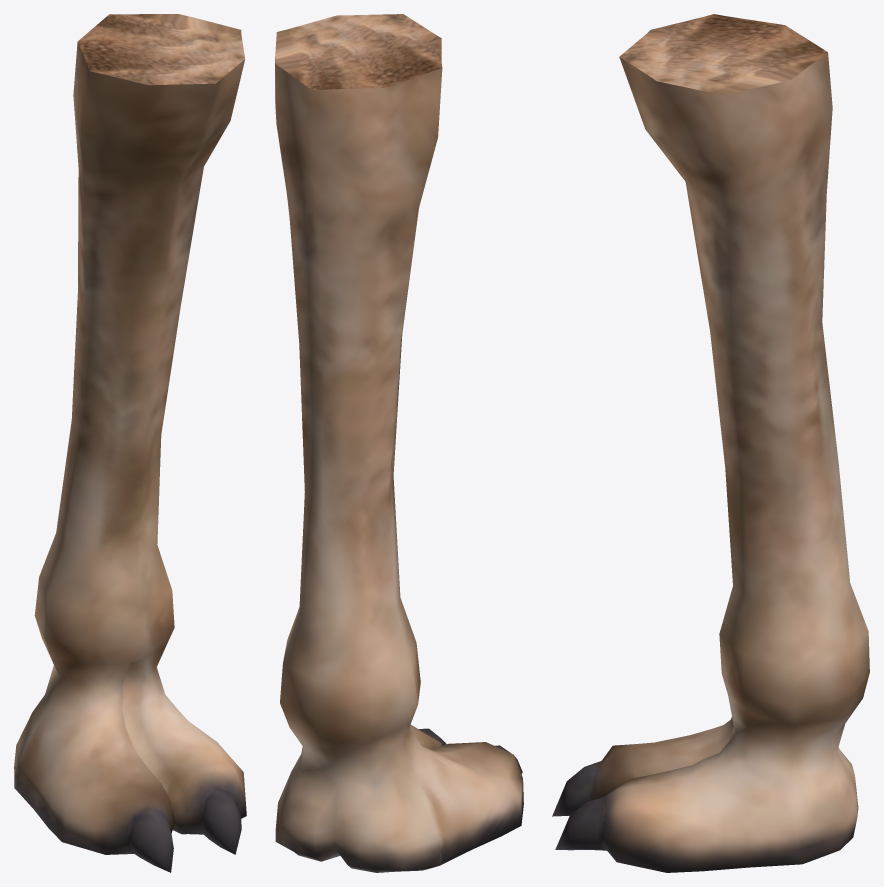
Rendered from DL_Pata.obj.
3 renders of one model, left to right at view 1: azimuth 30°, elevation 25°; view 2: azimuth 150°, elevation 25°; view 3: azimuth 270°, elevation 25°, orthographic. The views are drawn at different scales.
Visible parts, largest first — view 1: DL_Pata; view 2: DL_Pata; view 3: DL_Pata.
Part boxes in pixels (left/top/right/bottom): DL_Pata: left=14, top=14, right=246, bottom=872; DL_Pata: left=275, top=14, right=523, bottom=872; DL_Pata: left=552, top=14, right=869, bottom=872.
Size of the model in its own units: 0.1659 by 0.5711 by 0.205.
